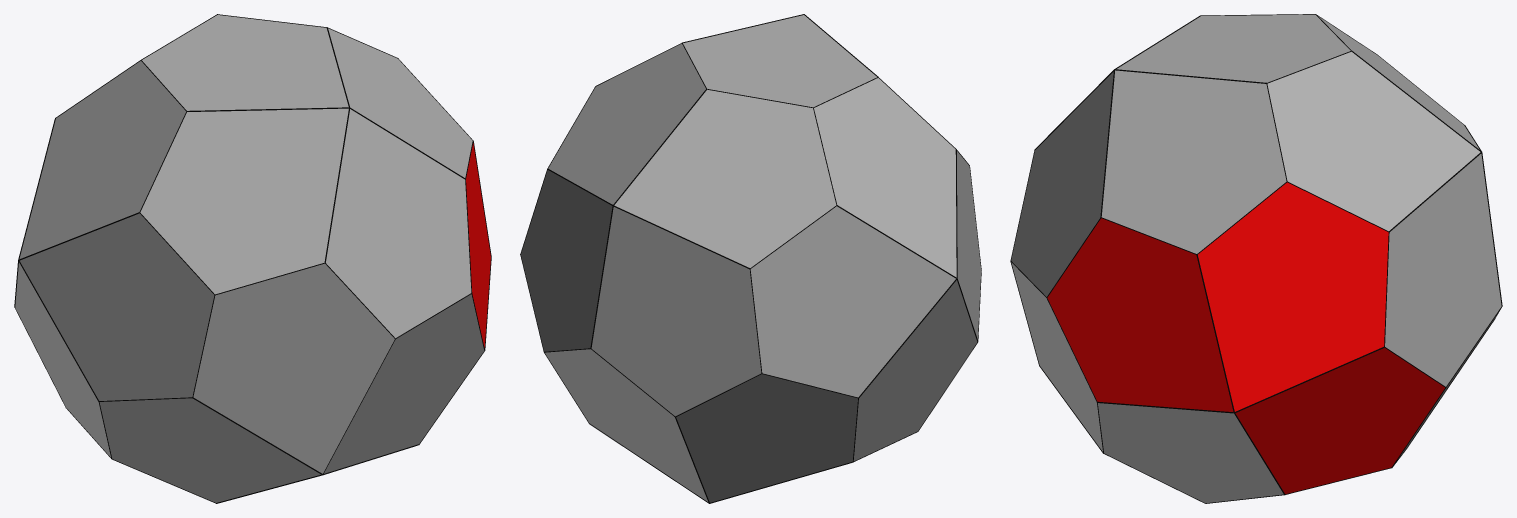
Rendered from PentagonalIcositetrahedron1.glb.
3 views of the same model, side by side, from view 1: azimuth 30°, elevation 25°; view 2: azimuth 150°, elevation 25°; view 3: azimuth 270°, elevation 25° (orthographic). The views are drawn at different scales.
Size of the model in its own units: 2.67 by 2.49 by 2.52.
